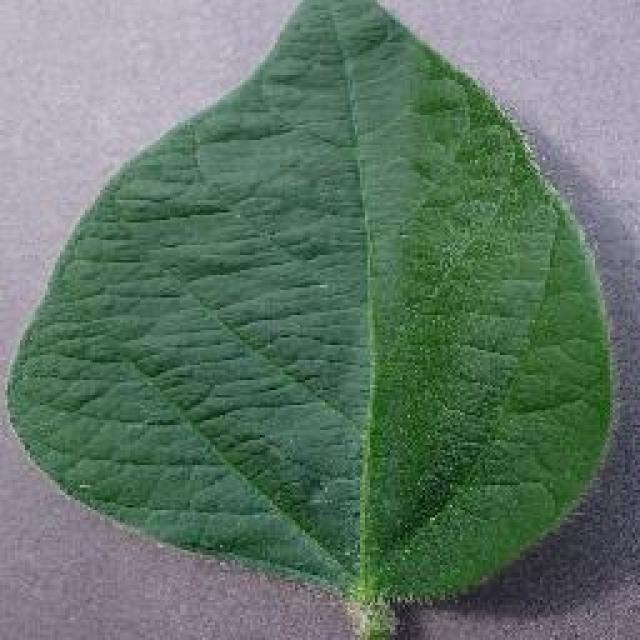Soy_healthy: (53, 75, 628, 550)
